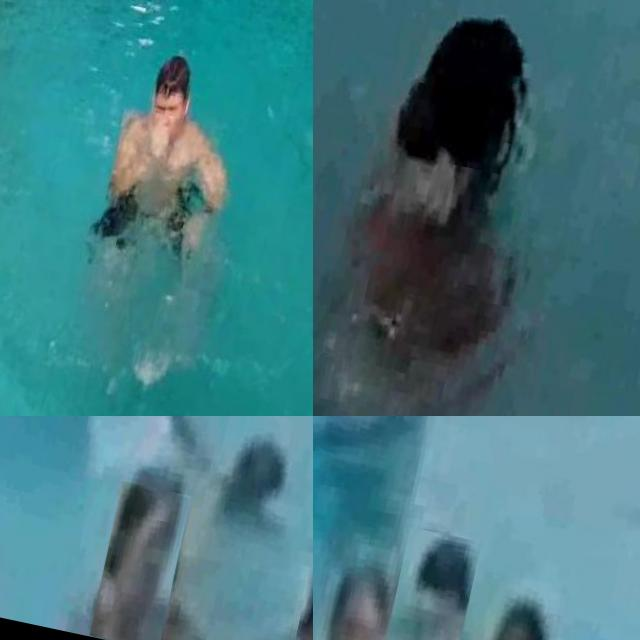drowning: (313, 0, 588, 416), (136, 416, 313, 516), (385, 526, 482, 640)
swimming: (75, 39, 262, 306), (90, 481, 193, 640), (452, 577, 597, 640), (313, 550, 398, 640), (287, 548, 313, 640)
